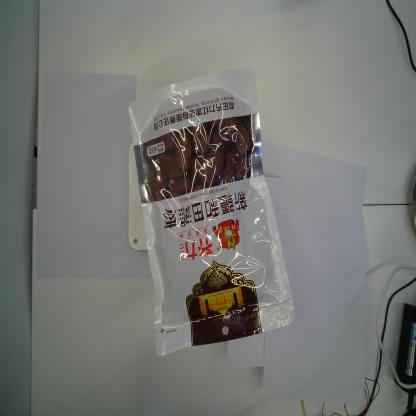Dried Food: (125, 66, 297, 362)
